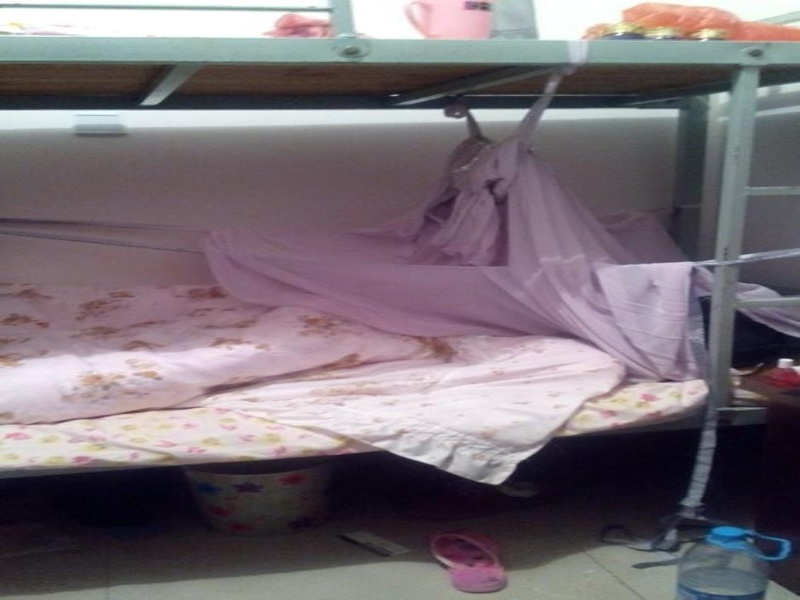short_sleeved_dress: (193, 73, 798, 384)
